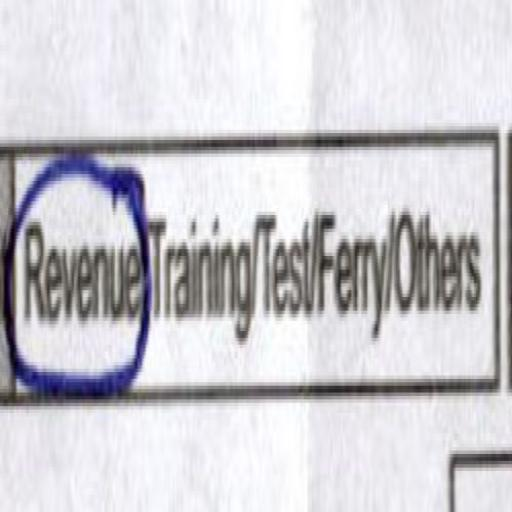check: (17, 91, 144, 461)
